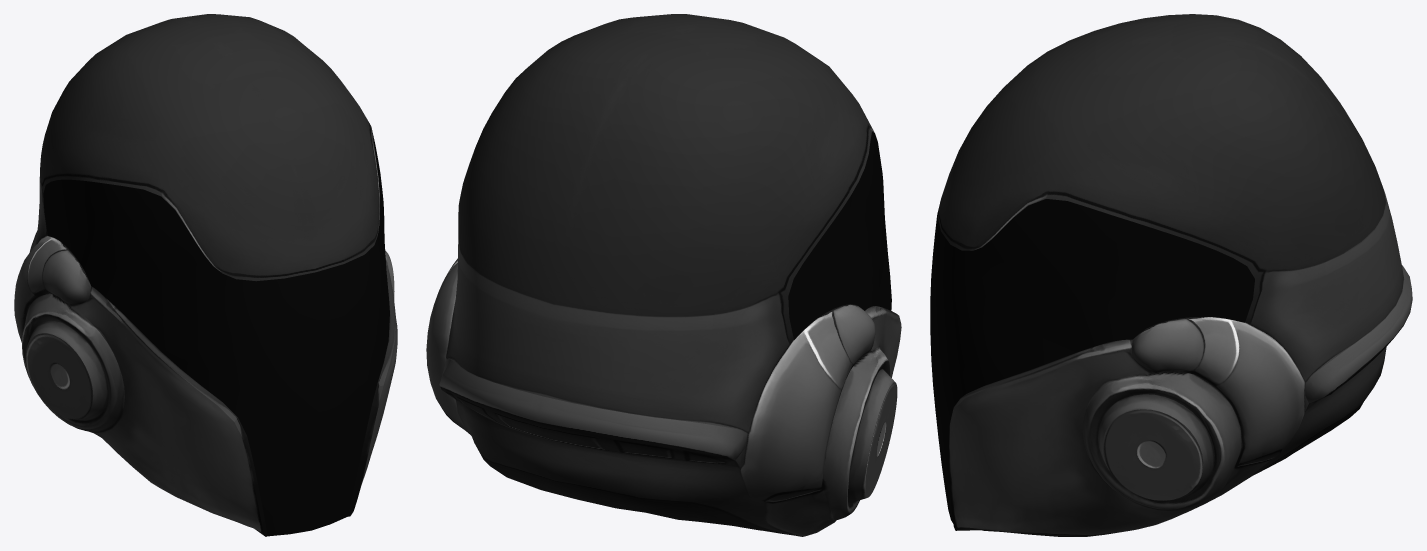
The model's file is Helmet Rogue.fbx.
3 views of the same model, side by side, from view 1: azimuth 30°, elevation 25°; view 2: azimuth 150°, elevation 25°; view 3: azimuth 270°, elevation 25° (orthographic). The views are drawn at different scales.
Visible parts, largest first — view 1: Helmet Rogue; view 2: Helmet Rogue; view 3: Helmet Rogue.
Boxes of the visible parts, x1=… form: Helmet Rogue: x1=14, y1=14, x2=397, y2=536; Helmet Rogue: x1=426, y1=14, x2=901, y2=536; Helmet Rogue: x1=930, y1=14, x2=1412, y2=536.
Bounding box in the file's own units: 2.53 × 2.93 × 2.71.
2 materials, 1 textured.
